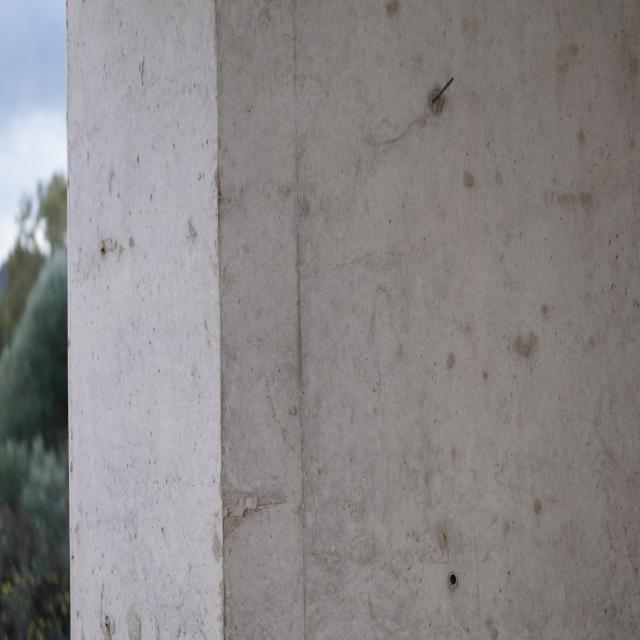Rebar: (429, 76, 456, 117)
horizontal crack: (220, 490, 286, 543)
vertical crack: (100, 579, 107, 640)
